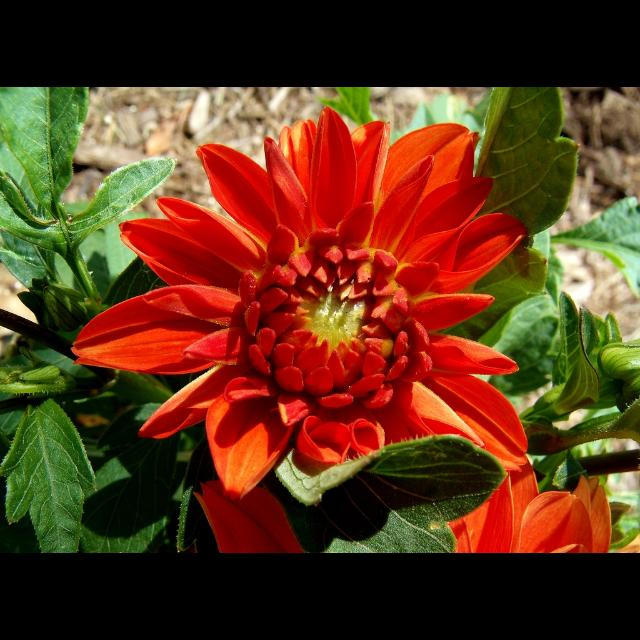Flower: (81, 109, 547, 512), (458, 458, 610, 552), (193, 480, 301, 552)
